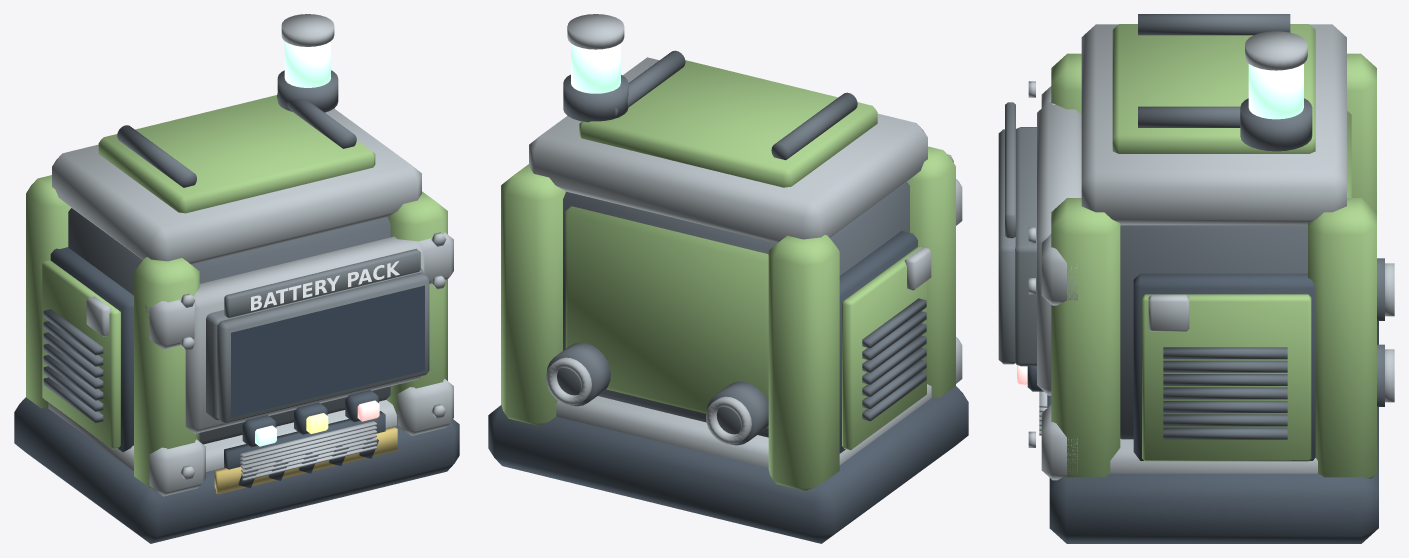
File: battery_pack_enhanced.glb
3 renders of one model, left to right at view 1: azimuth 30°, elevation 25°; view 2: azimuth 150°, elevation 25°; view 3: azimuth 270°, elevation 25°, orthographic. The views are drawn at different scales.
Parts seen in each view (by area): view 1: TopCap_steel_legacy_10, Base_black_legacy_0, Frame_green_legacy_4, RoofPanel_green_legacy_11, LiveViewSurface_glass, Housing_dark_legacy_2, CornerGuard_steel_legacy_5, DisplayFrame_steel_legacy_13, ServiceDoor_green_legacy_7, LiveViewSurfaceFrame_frame, Detail_steel_legacy_24, SideVents_dark_legacy_8 (+13 smaller); view 2: Frame_green_legacy_4, Armor_green_legacy_3, Base_black_legacy_0, TopCap_steel_legacy_10, RoofPanel_green_legacy_11, Housing_dark_legacy_2, ServiceDoor_green_legacy_7, Skirt_steel_legacy_1, SideVents_dark_legacy_8, RearPort_dark_legacy_29, LiftRail_dark_legacy_12, SidePanel_black_legacy_6 (+6 smaller); view 3: Frame_green_legacy_4, TopCap_steel_legacy_10, Base_black_legacy_0, ServiceDoor_green_legacy_7, RoofPanel_green_legacy_11, Housing_dark_legacy_2, SideVents_dark_legacy_8, DisplayFrame_steel_legacy_13, SidePanel_black_legacy_6, LiftRail_dark_legacy_12, ScreenMount_frame, CornerGuard_steel_legacy_5 (+10 smaller).
Part boxes in pixels (x1,y1,x2,y2): TopCap_steel_legacy_10: (52,108,421,264); Base_black_legacy_0: (14,397,459,543); Frame_green_legacy_4: (26,175,447,491); RoofPanel_green_legacy_11: (98,95,375,213); LiveViewSurface_glass: (231,285,424,417); Housing_dark_legacy_2: (68,208,390,444); CornerGuard_steel_legacy_5: (145,232,453,496); DisplayFrame_steel_legacy_13: (185,236,424,433); ServiceDoor_green_legacy_7: (42,260,120,449); LiveViewSurfaceFrame_frame: (217,272,429,423); Detail_steel_legacy_24: (180,232,446,480); SideVents_dark_legacy_8: (43,309,103,422); Frame_green_legacy_4: (501,146,955,490); Armor_green_legacy_3: (565,206,768,428); Base_black_legacy_0: (488,386,968,543); TopCap_steel_legacy_10: (529,57,927,242); RoofPanel_green_legacy_11: (579,60,877,187); Housing_dark_legacy_2: (563,182,909,437); ServiceDoor_green_legacy_7: (842,246,926,450); Skirt_steel_legacy_1: (556,384,931,468); SideVents_dark_legacy_8: (862,298,926,421); RearPort_dark_legacy_29: (547,342,768,445); LiftRail_dark_legacy_12: (615,50,857,160); SidePanel_black_legacy_6: (839,231,917,453); Frame_green_legacy_4: (1051,53,1376,478); TopCap_steel_legacy_10: (1081,24,1346,225); Base_black_legacy_0: (1049,321,1378,543); ServiceDoor_green_legacy_7: (1142,294,1311,461); RoofPanel_green_legacy_11: (1112,24,1315,153); Housing_dark_legacy_2: (1120,225,1307,439); SideVents_dark_legacy_8: (1163,347,1287,439); DisplayFrame_steel_legacy_13: (1037,102,1081,395); SidePanel_black_legacy_6: (1133,273,1315,460); LiftRail_dark_legacy_12: (1138,14,1290,127); ScreenMount_frame: (1015,127,1036,366); CornerGuard_steel_legacy_5: (1041,86,1077,480).
Bounding box in the file's own units: 1.43 × 1.65 × 1.27.
